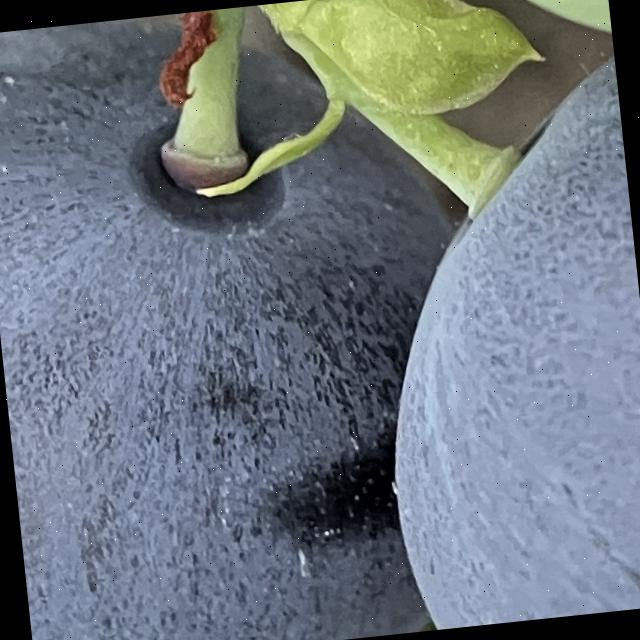Blueberries: (0, 0, 507, 640), (344, 2, 640, 632)
